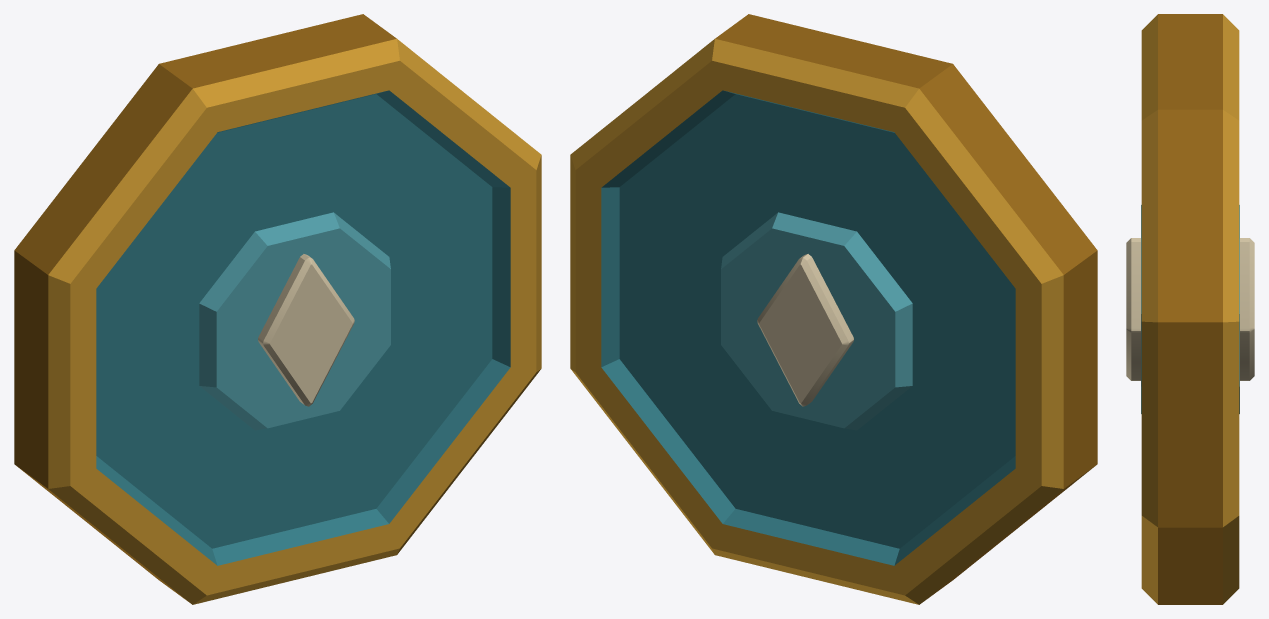
The model's file is Coin_04.glb.
The picture shows the model from 3 angles, left to right: view 1: azimuth 30°, elevation 25°; view 2: azimuth 150°, elevation 25°; view 3: azimuth 270°, elevation 25°; orthographic projection. The views are drawn at different scales.
Visible parts, largest first — view 1: Coin_04; view 2: Coin_04; view 3: Coin_04.
Boxes of the visible parts, left/top/right/bottom form: Coin_04: left=14, top=14, right=541, bottom=604; Coin_04: left=570, top=14, right=1097, bottom=604; Coin_04: left=1126, top=14, right=1254, bottom=604.
Size of the model in its own units: 1.5 by 1.5 by 0.352.
